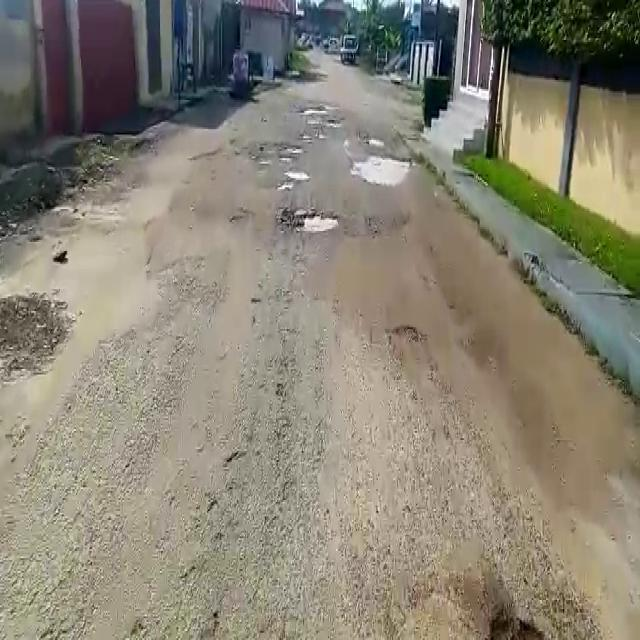pothole: (355, 151, 410, 183), (284, 208, 342, 236), (277, 144, 304, 157), (281, 173, 311, 184)
